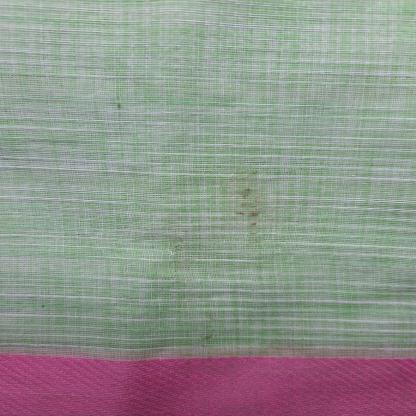spot: (229, 172, 266, 236), (199, 324, 227, 348)
